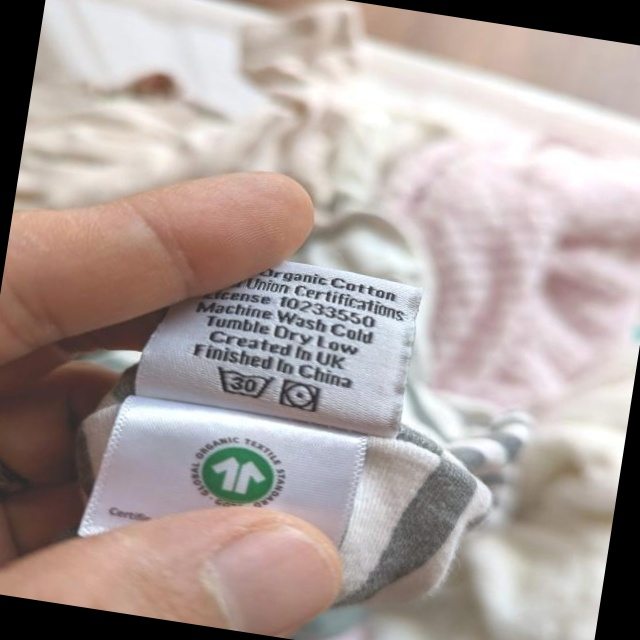30C: (208, 361, 278, 405)
tumble_dry_low: (276, 376, 325, 417)
